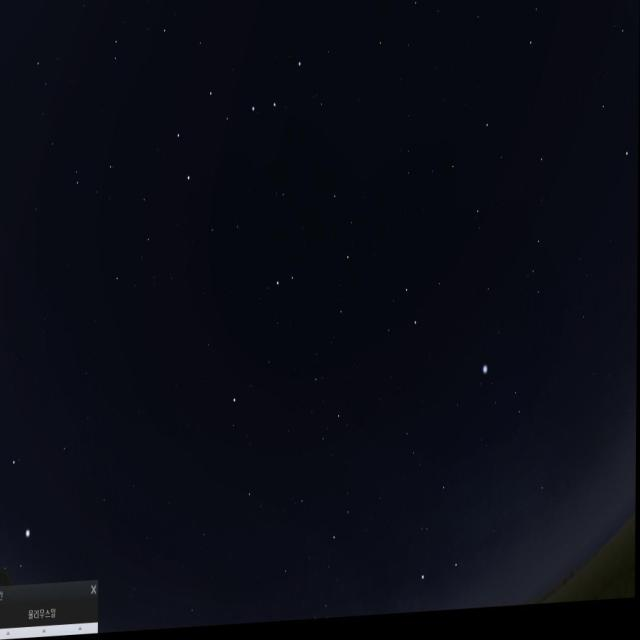lyra: (473, 359, 527, 444)
ursa_major: (170, 59, 302, 201)
